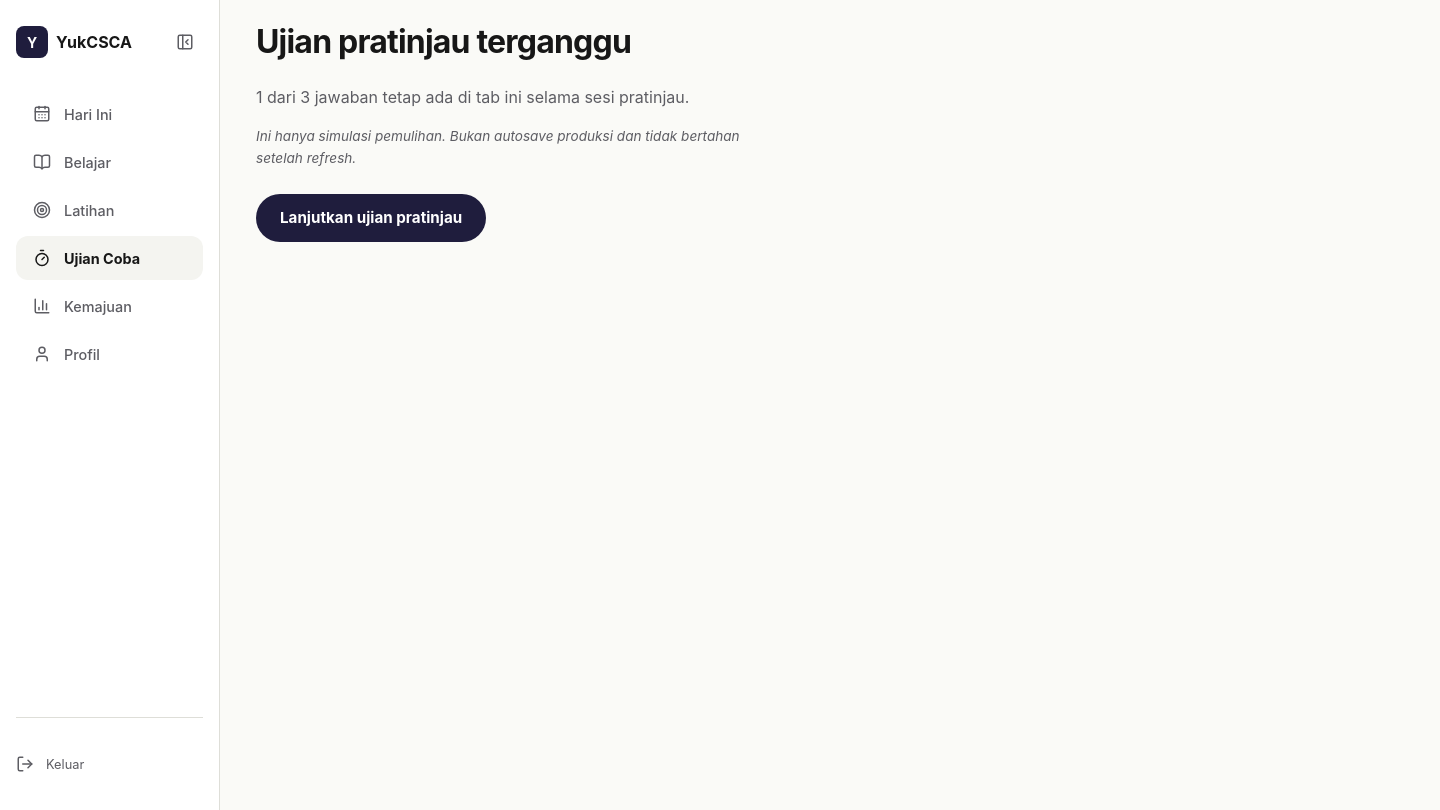
PX-001 integrated preview states › resumes an interrupted mock with the current answer and requires priority approval
Expected: the heading "Ujian pratinjau terganggu" is shown, [256, 22, 631, 61]
Click the button "Lanjutkan ujian pratinjau" at (371, 218), box [256, 194, 486, 242]
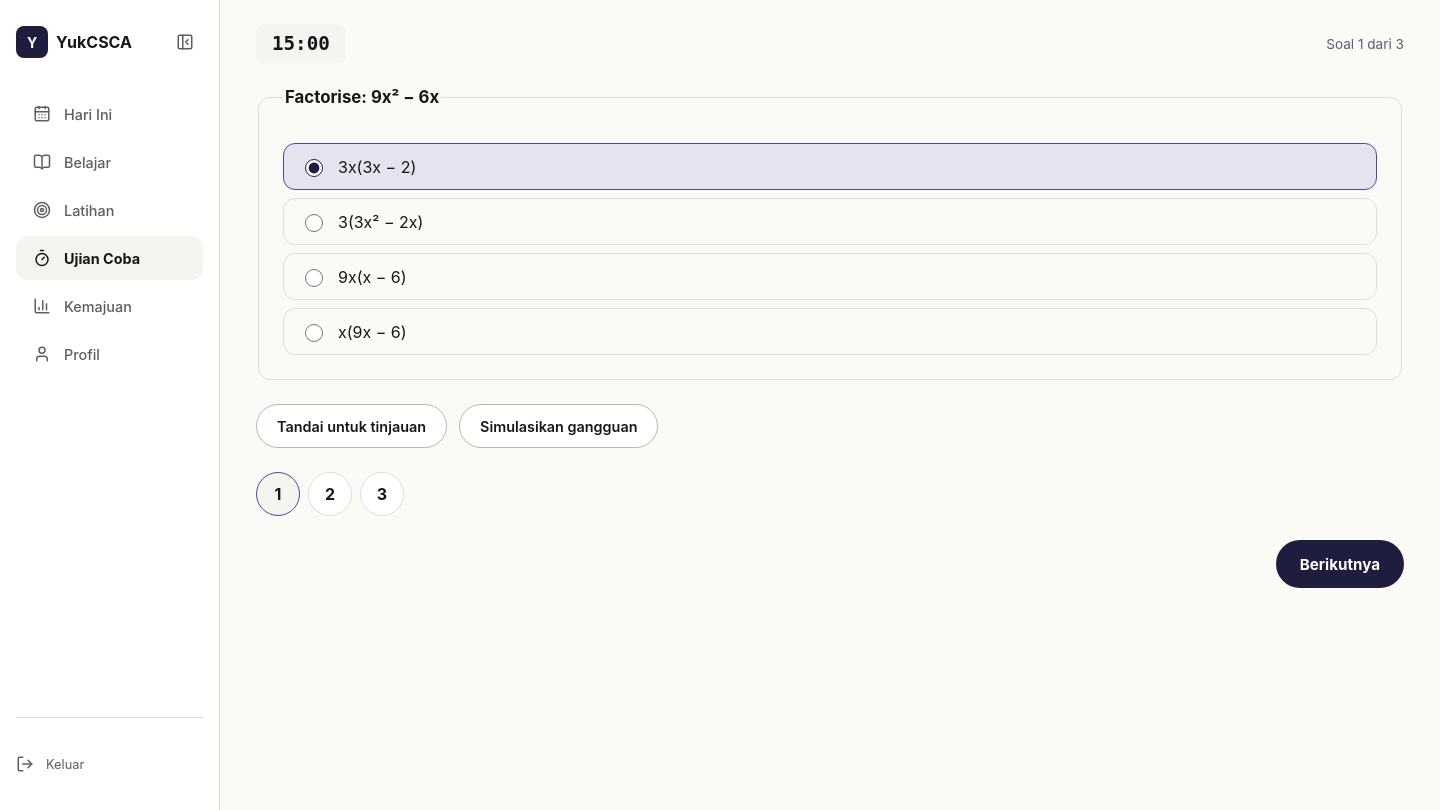
Result: the radio button labelled "3x(3x − 2)" is checked at [305, 159, 323, 177]
